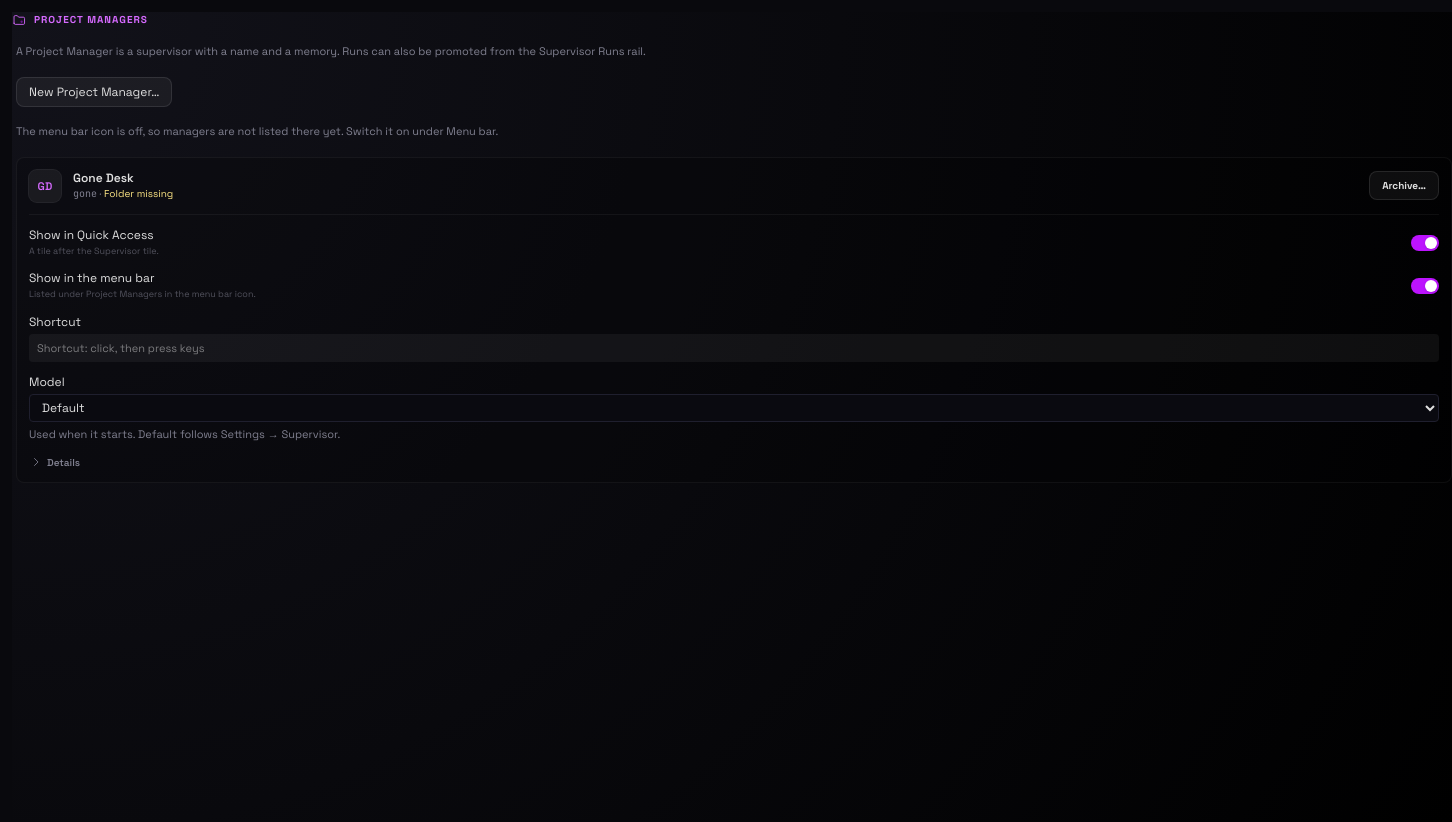
Test: Settings → Supervisor → Project Managers › the working loop › a manager whose folder is gone › says so in Details instead of throwing when there is no run to inspect
This screenshot has width=1452, height=822.
Click the button "Details" at (55, 462), box left=29, top=455, right=80, bottom=470
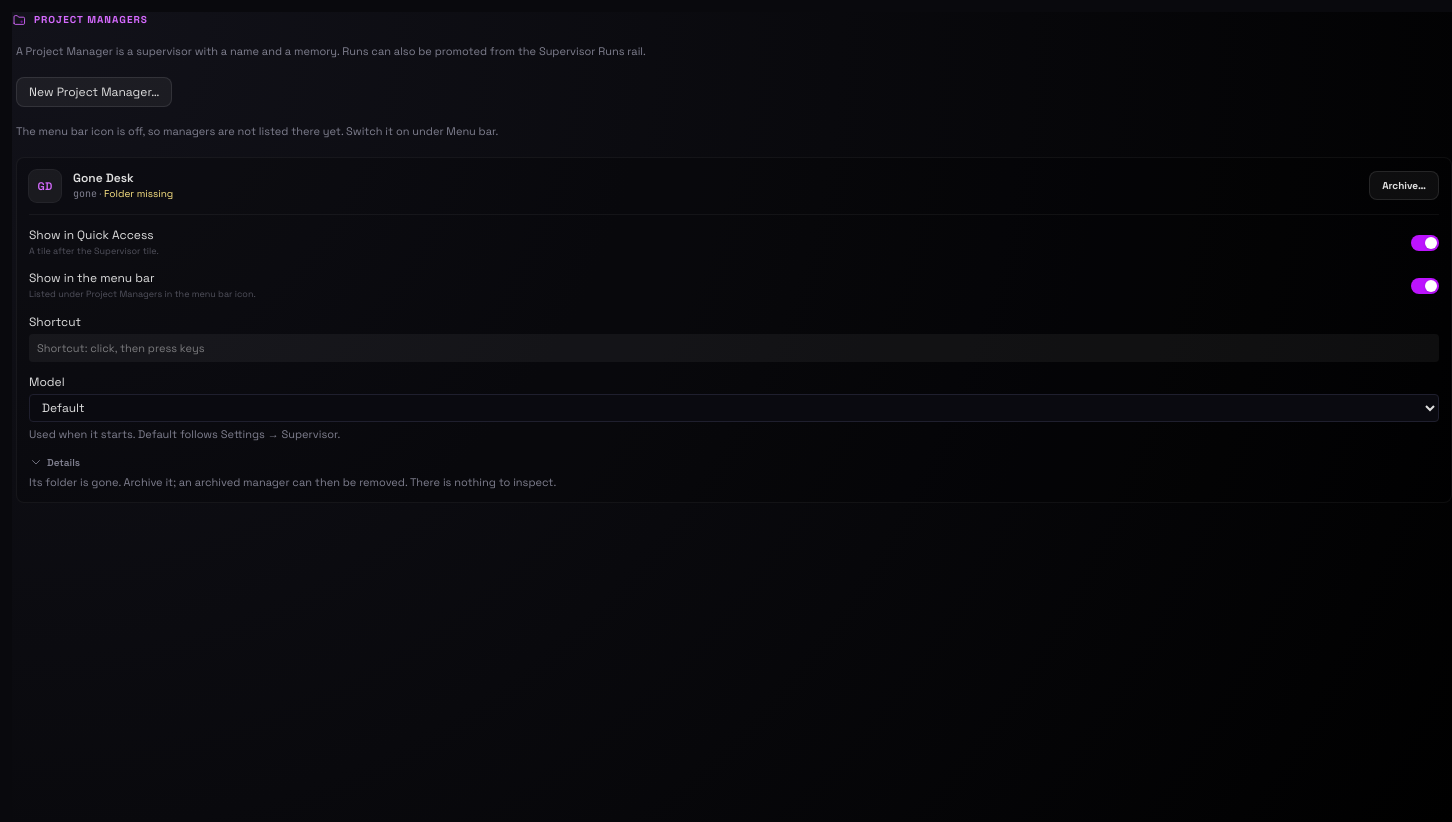
Now the text "Its folder is gone" is shown, box left=29, top=475, right=556, bottom=489
